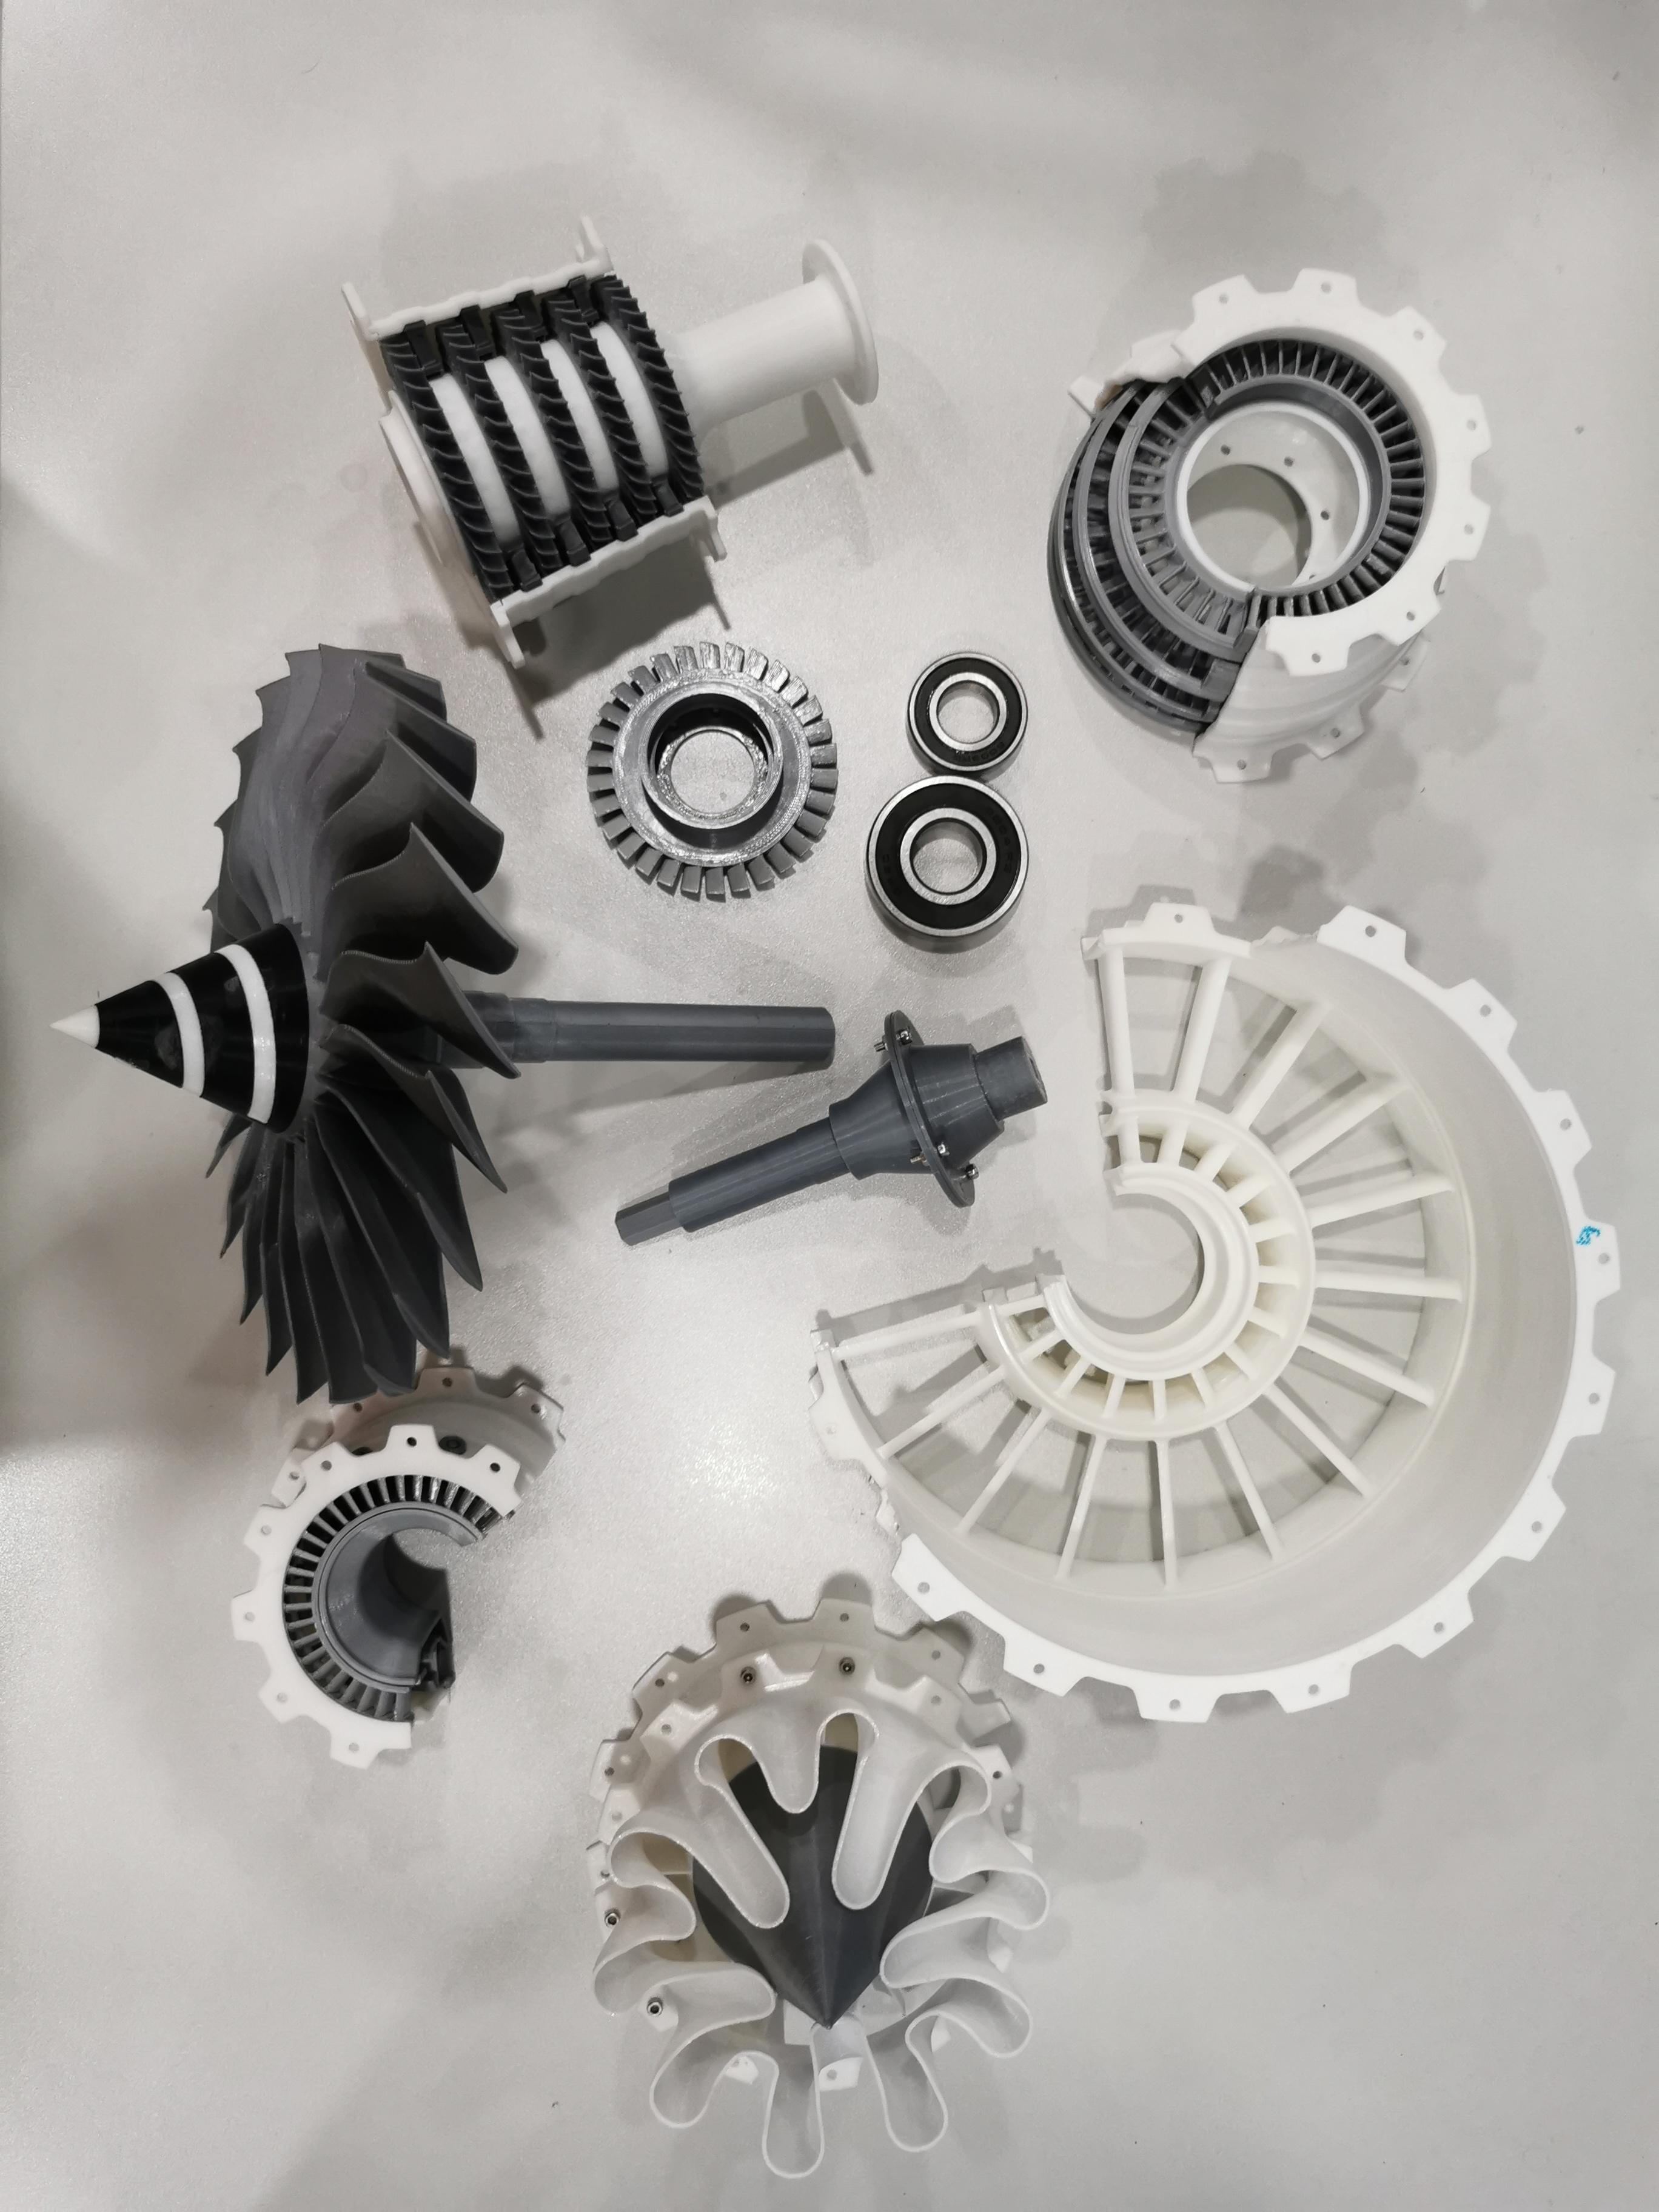Bearing-6003: (894, 641, 1033, 784)
Bearing-6204: (857, 768, 1035, 946)
Combustion Section: (218, 1355, 587, 1778)
Fan Casing and Support: (784, 888, 1636, 1731)
Fan and Low Pressure Shaft: (44, 636, 838, 1414)
HPT Section: (579, 637, 849, 914)
High Pressure Spool: (326, 204, 913, 681)
LPT Section: (1037, 254, 1520, 791)
Low Pressure Spool: (601, 1001, 1051, 1256)
Nozzle Section: (570, 1578, 1056, 2186)
